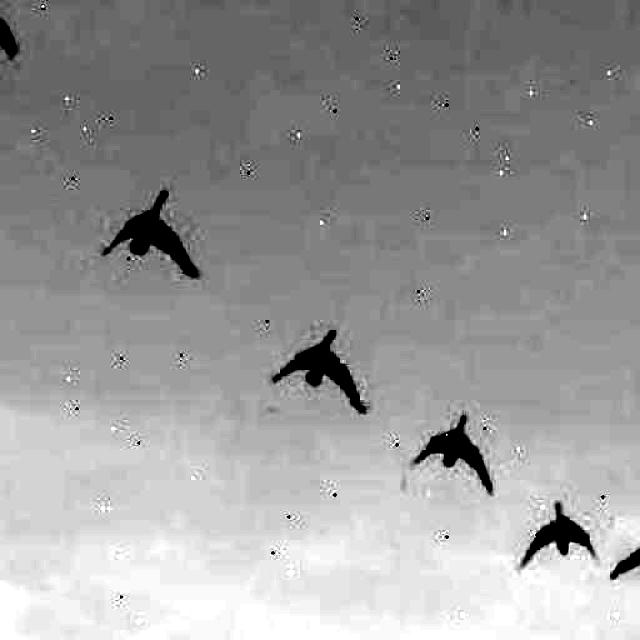airplane: (95, 184, 208, 280), (265, 324, 375, 414), (405, 409, 499, 495), (518, 498, 606, 578), (609, 514, 640, 586)
